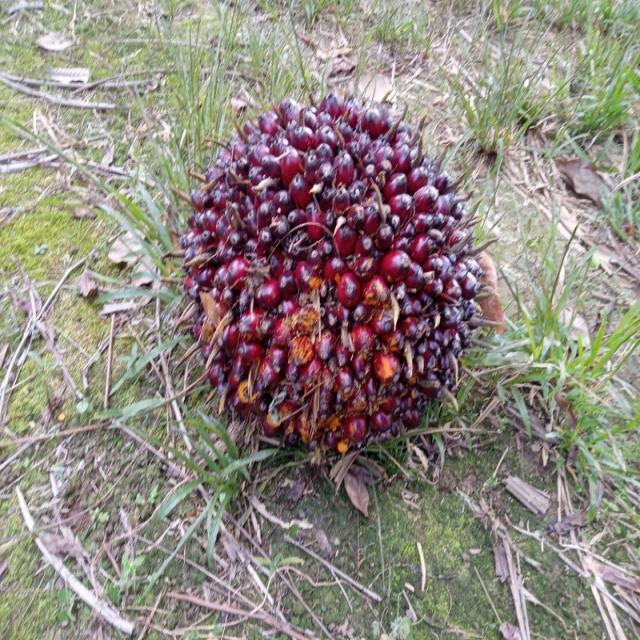fraksi 1: (176, 96, 470, 452)
